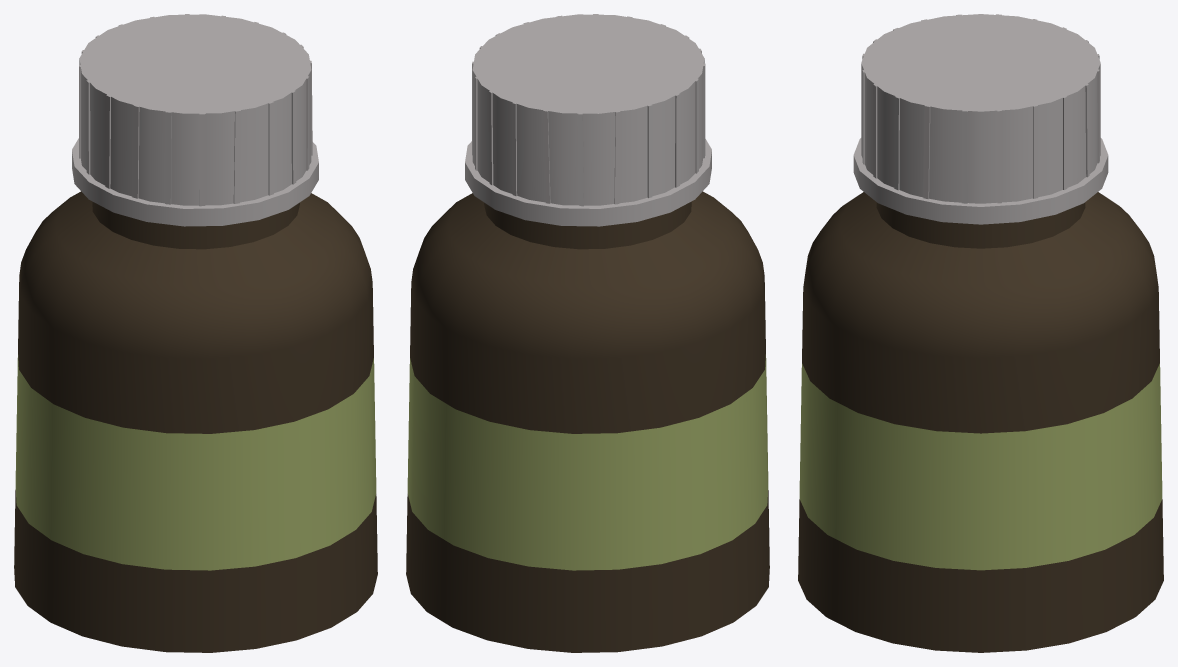
File: ban1.fbx
The picture shows the model from 3 angles, left to right: view 1: azimuth 30°, elevation 25°; view 2: azimuth 150°, elevation 25°; view 3: azimuth 270°, elevation 25°; orthographic projection.
Parts seen in each view (by area): view 1: pCylinder1, pCylinder2; view 2: pCylinder1, pCylinder2; view 3: pCylinder1, pCylinder2.
Boxes of the visible parts, left/top/right/bottom form: pCylinder1: left=14, top=191, right=377, bottom=652; pCylinder2: left=72, top=14, right=318, bottom=226; pCylinder1: left=406, top=191, right=769, bottom=652; pCylinder2: left=465, top=14, right=711, bottom=226; pCylinder1: left=798, top=192, right=1163, bottom=652; pCylinder2: left=853, top=14, right=1108, bottom=224.
Bounding box in the file's own units: 4.66 × 7.26 × 4.69.
